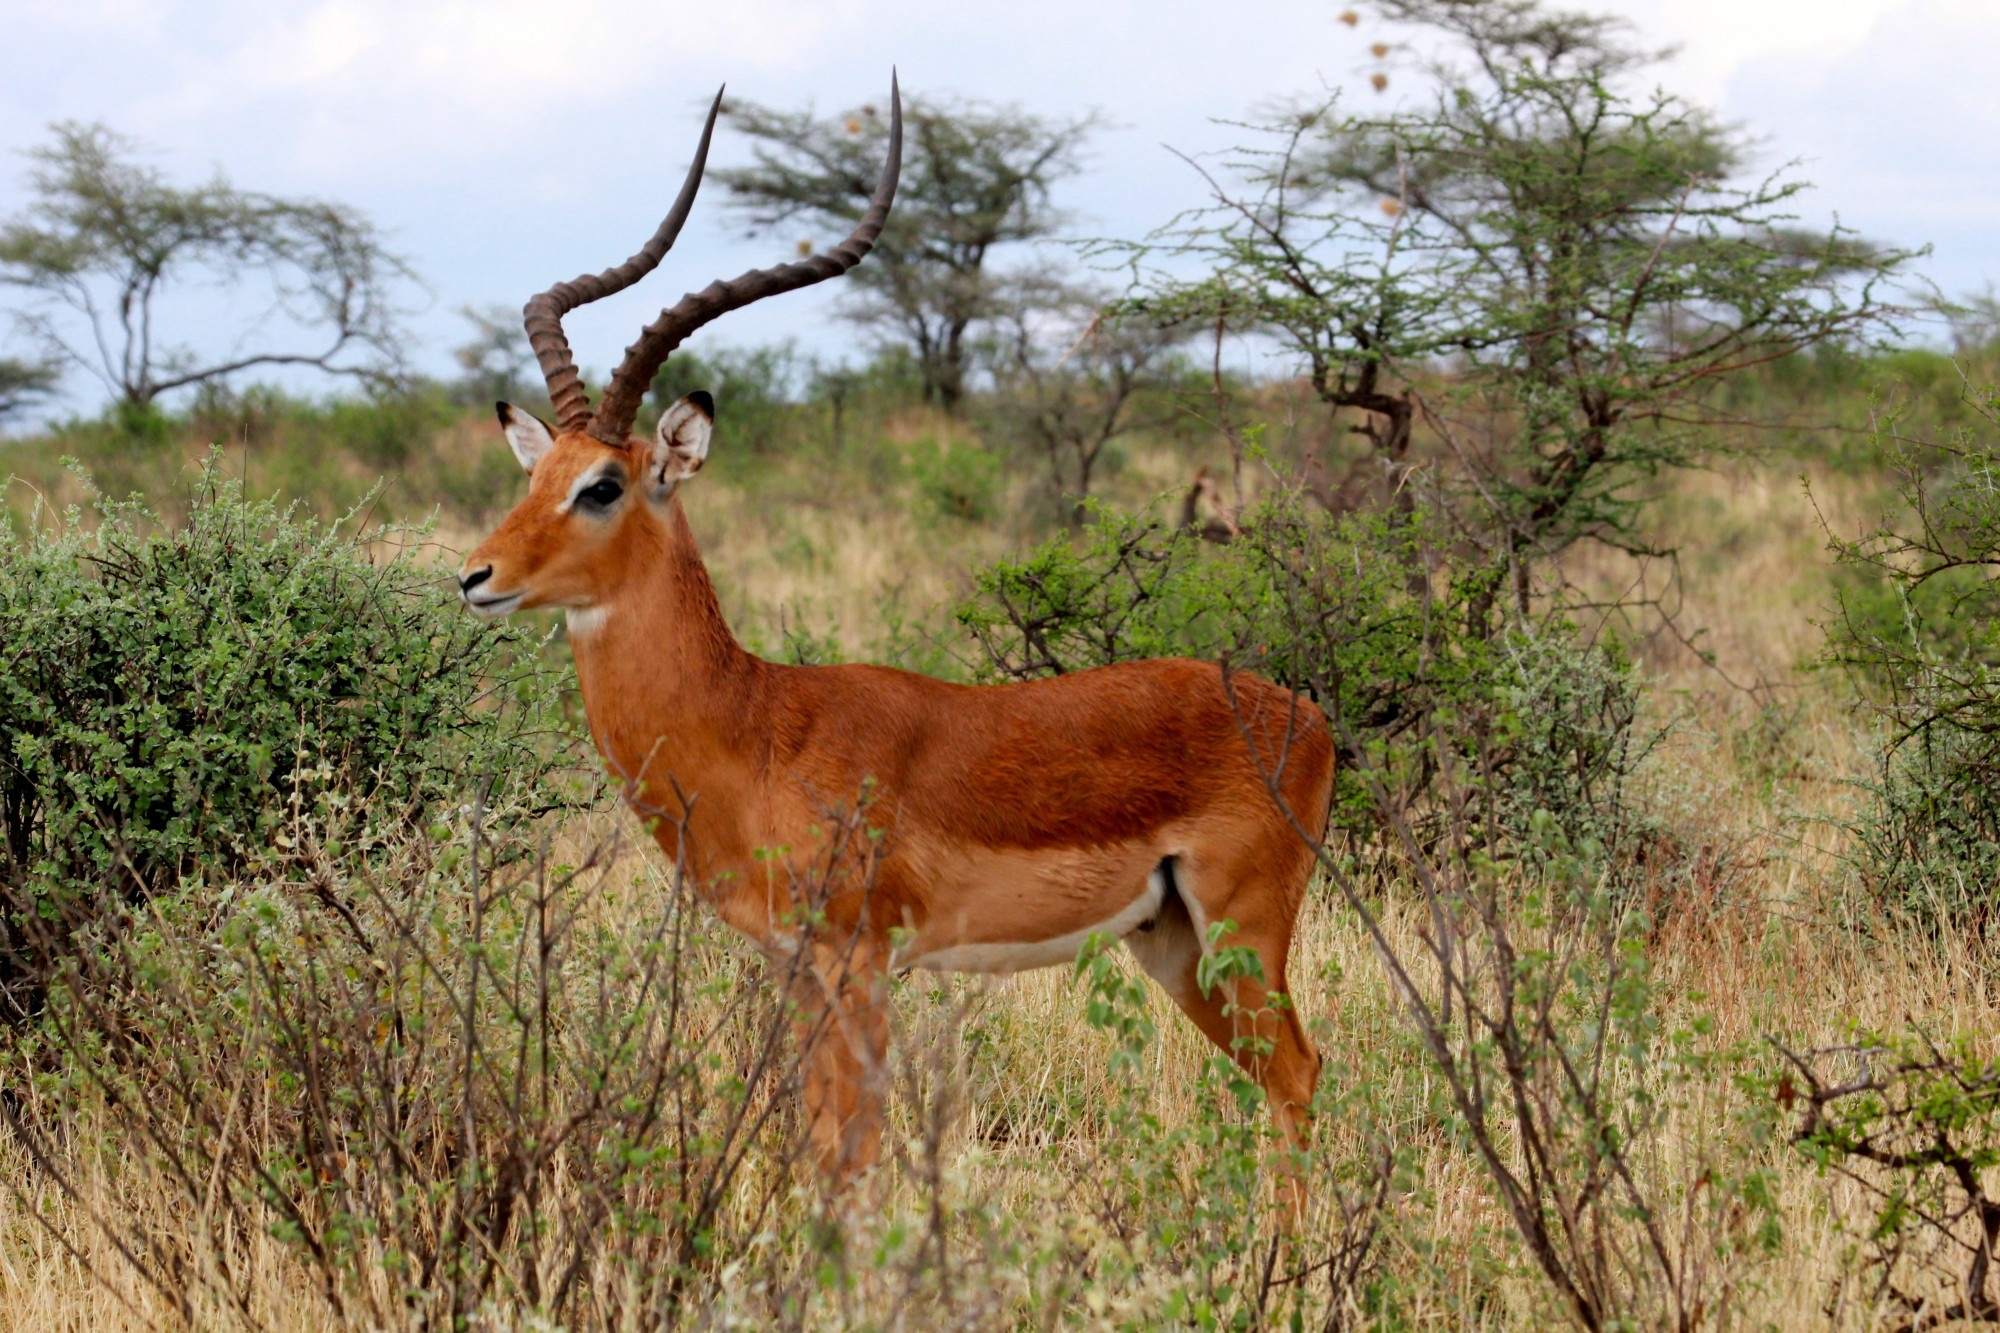impala: (443, 48, 1372, 1297)
